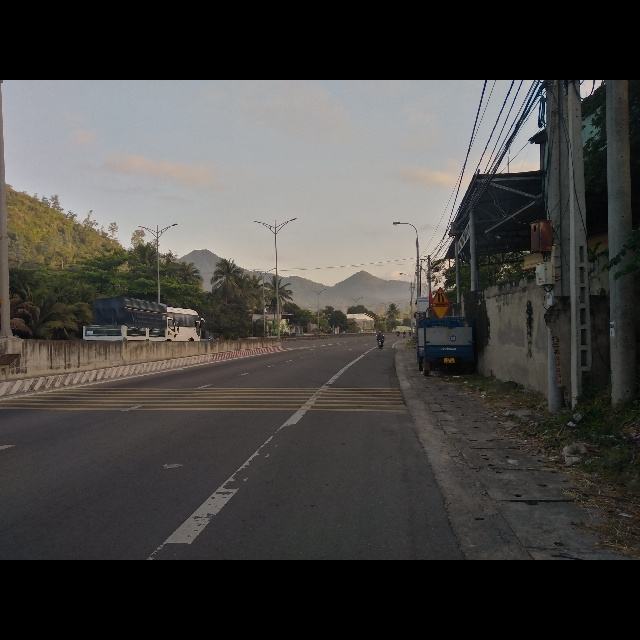Giao nhau với đường ưu tiên: (430, 306, 450, 319)
Đường bị hẹp bên phải: (430, 287, 450, 305)
